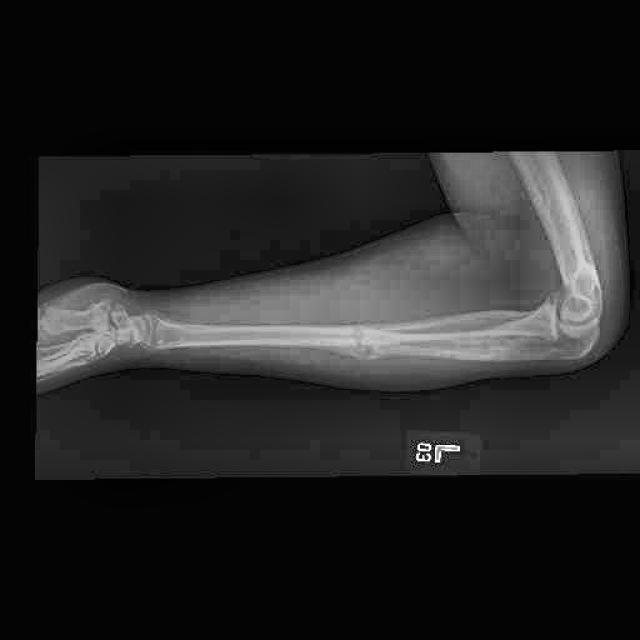forearm fracture: (326, 312, 401, 376)
